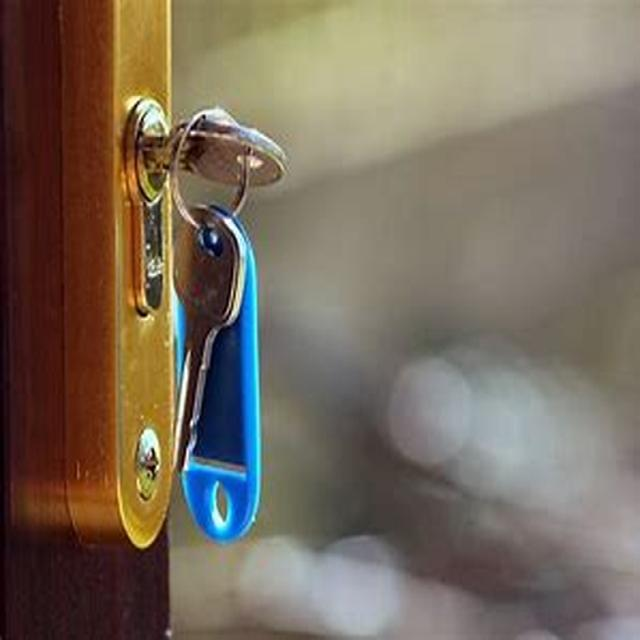key: (127, 78, 312, 586)
